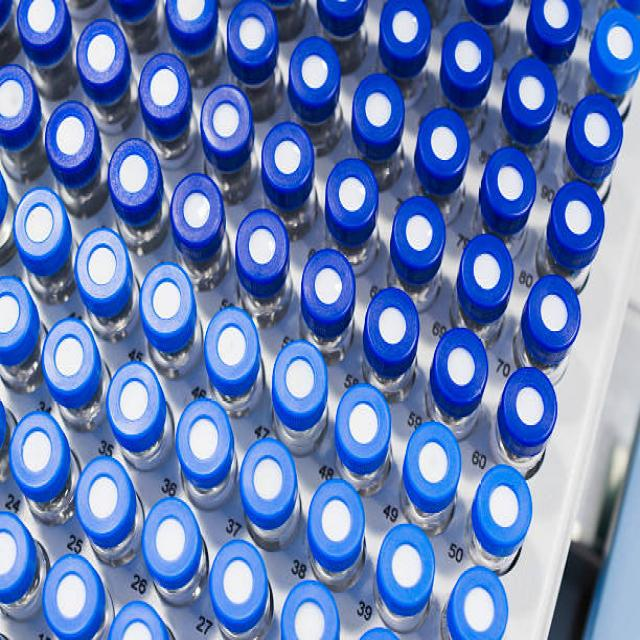vial: (454, 232, 512, 312), (377, 530, 442, 601), (102, 364, 166, 436), (172, 171, 230, 249), (307, 246, 361, 329), (328, 160, 387, 233), (439, 324, 488, 404), (373, 2, 435, 64), (0, 512, 40, 608), (180, 399, 234, 469), (393, 194, 444, 268), (112, 143, 165, 214), (78, 228, 127, 304), (80, 464, 133, 533), (373, 293, 421, 369), (14, 190, 67, 258), (23, 0, 68, 78), (570, 99, 624, 164), (452, 577, 509, 638), (557, 178, 603, 252), (341, 383, 388, 455), (480, 472, 529, 540), (309, 486, 360, 551), (202, 89, 252, 153), (237, 209, 286, 274), (276, 347, 322, 415), (144, 265, 188, 336), (531, 277, 579, 342), (143, 54, 190, 120), (211, 315, 258, 380), (503, 373, 557, 429), (263, 129, 310, 193), (288, 580, 338, 640), (0, 57, 37, 136), (143, 504, 190, 566), (13, 420, 57, 486), (51, 98, 95, 164), (294, 45, 340, 108), (510, 60, 558, 120), (487, 148, 534, 208), (598, 11, 640, 78), (82, 24, 129, 82), (220, 551, 262, 615), (49, 570, 96, 627), (410, 429, 453, 491), (0, 280, 36, 354), (231, 0, 274, 61), (448, 28, 494, 85), (356, 84, 402, 140), (537, 0, 587, 51), (47, 331, 94, 382), (420, 113, 462, 166), (168, 0, 220, 38), (114, 598, 160, 640), (318, 0, 368, 19), (111, 0, 156, 21), (463, 0, 514, 17), (0, 174, 13, 240), (359, 624, 401, 640), (0, 0, 16, 33), (0, 399, 8, 457), (272, 0, 297, 16)
